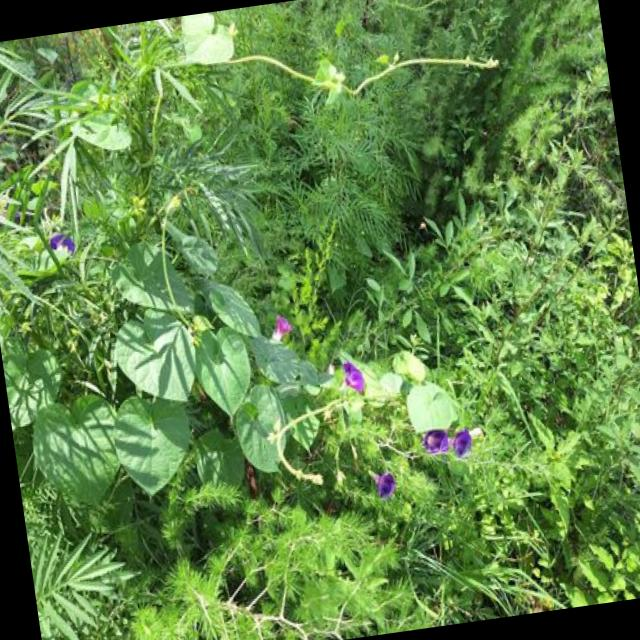ipomoea: (416, 418, 480, 468), (334, 352, 372, 402), (42, 226, 80, 266), (416, 423, 454, 463), (368, 465, 403, 508), (263, 308, 298, 350), (446, 422, 479, 464)
